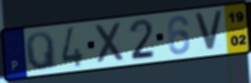2: (128, 18, 156, 61)
4: (60, 25, 86, 69)
6: (166, 14, 191, 56)
Q: (24, 30, 59, 72)
V: (193, 10, 225, 53)
X: (93, 20, 127, 66)
